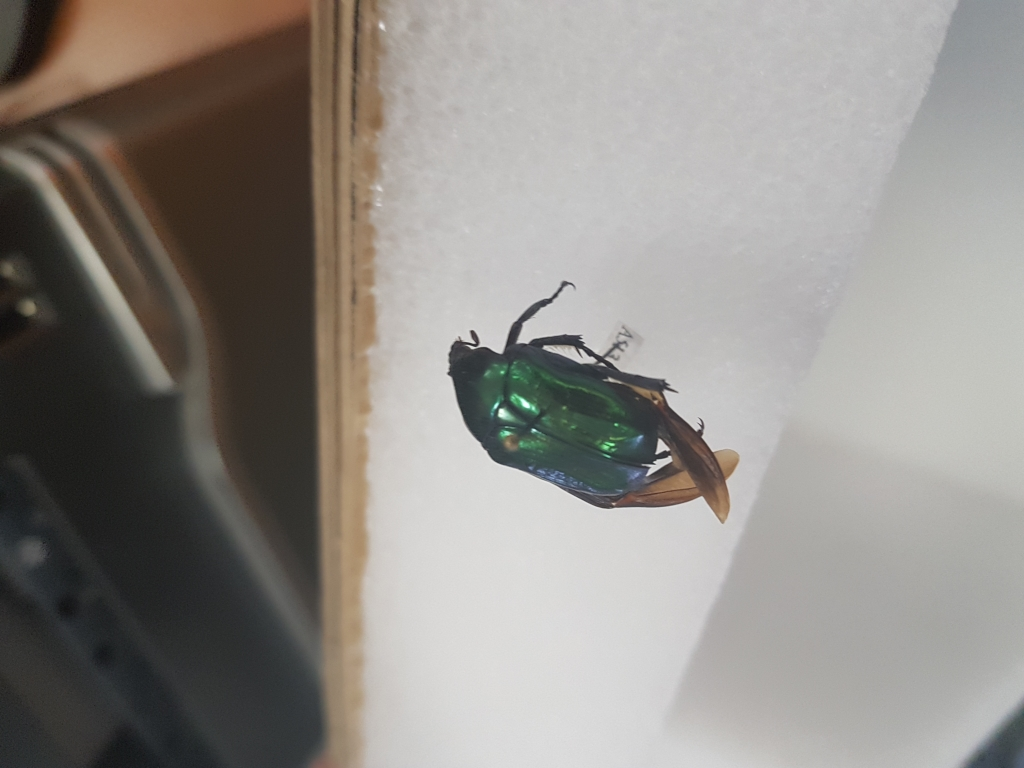Protaetia_angustata_angustata: (436, 267, 747, 528)
